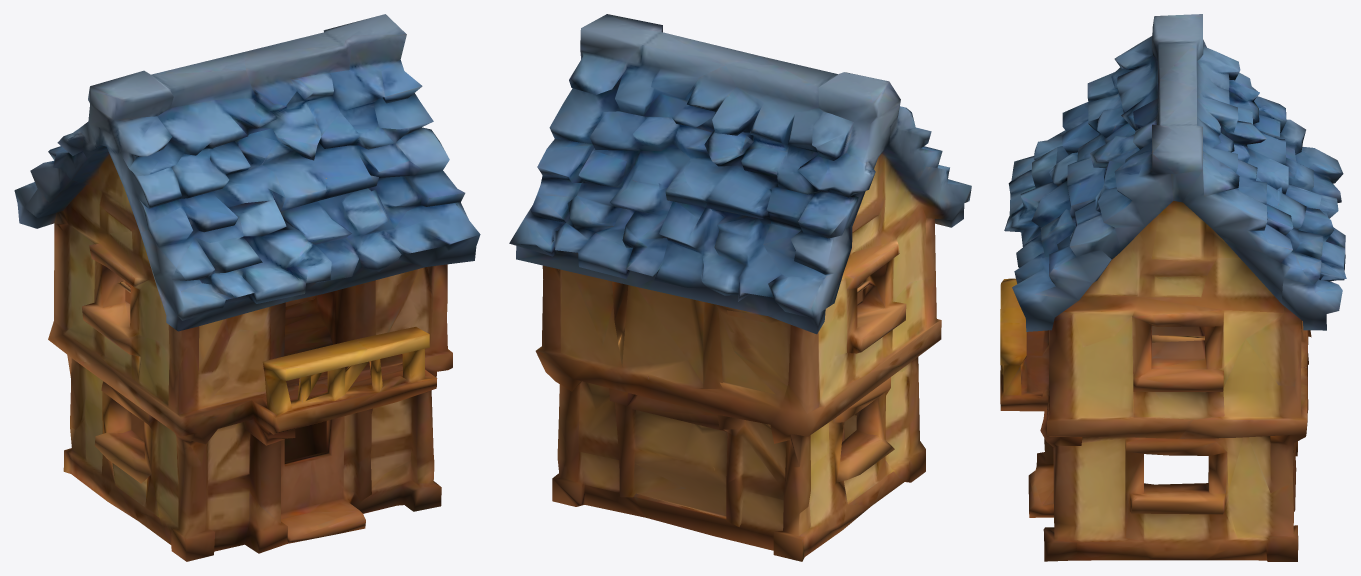
File: house2.glb
The picture shows the model from 3 angles, left to right: view 1: azimuth 30°, elevation 25°; view 2: azimuth 150°, elevation 25°; view 3: azimuth 270°, elevation 25°; orthographic projection. The views are drawn at different scales.
Parts seen in each view (by area): view 1: tripo_node_fb9318d5-fbf8-4625-ab68-b047b95719ff; view 2: tripo_node_fb9318d5-fbf8-4625-ab68-b047b95719ff; view 3: tripo_node_fb9318d5-fbf8-4625-ab68-b047b95719ff.
Part boxes in pixels (box(x1,y1,x2,y2)): tripo_node_fb9318d5-fbf8-4625-ab68-b047b95719ff: box(14, 14, 480, 561); tripo_node_fb9318d5-fbf8-4625-ab68-b047b95719ff: box(509, 14, 971, 561); tripo_node_fb9318d5-fbf8-4625-ab68-b047b95719ff: box(1000, 14, 1346, 561).
Size of the model in its own units: 0.7539 by 1 by 0.746.
1 material, 1 textured.
